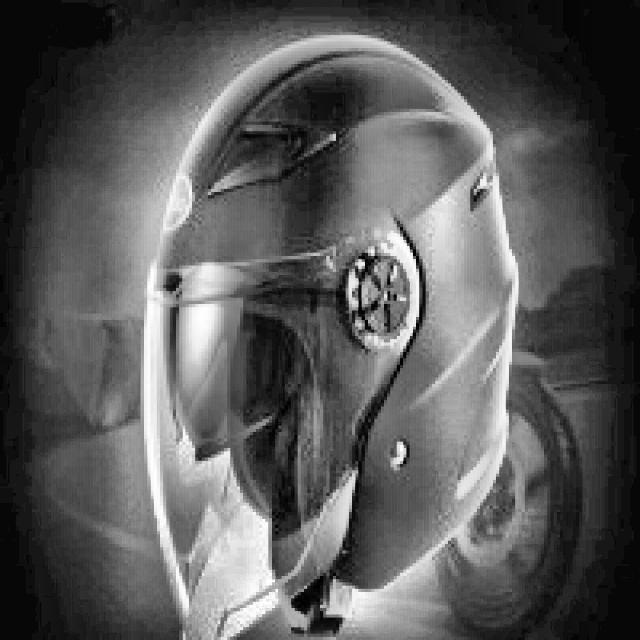Helmet: (128, 20, 548, 640)
